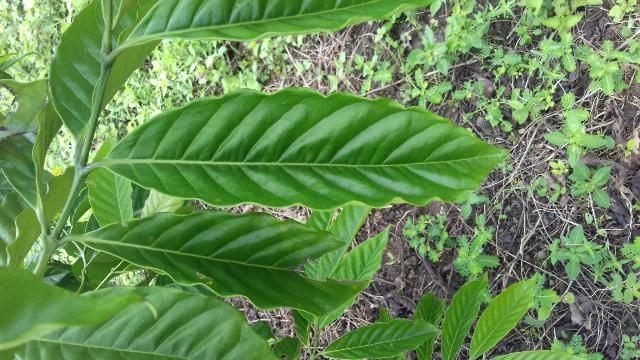healthy: (90, 82, 517, 212)
